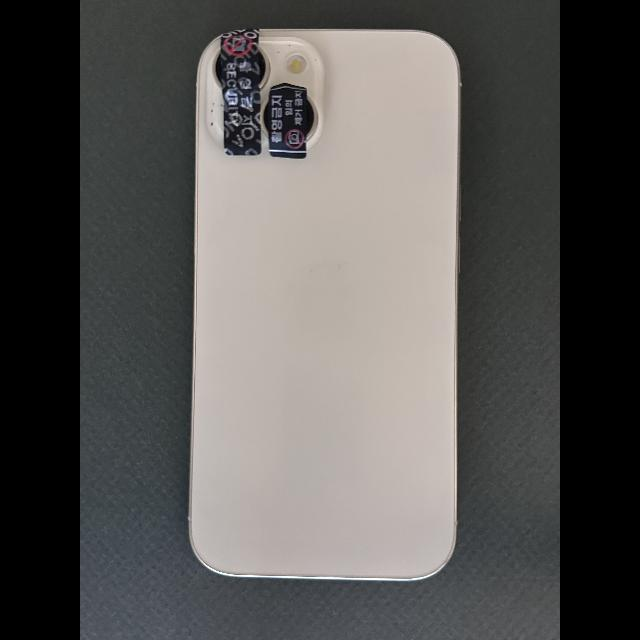lens: (307, 96, 318, 140), (259, 47, 269, 88)
phone: (188, 28, 461, 581)
sticker: (220, 29, 262, 156), (268, 82, 307, 159)
